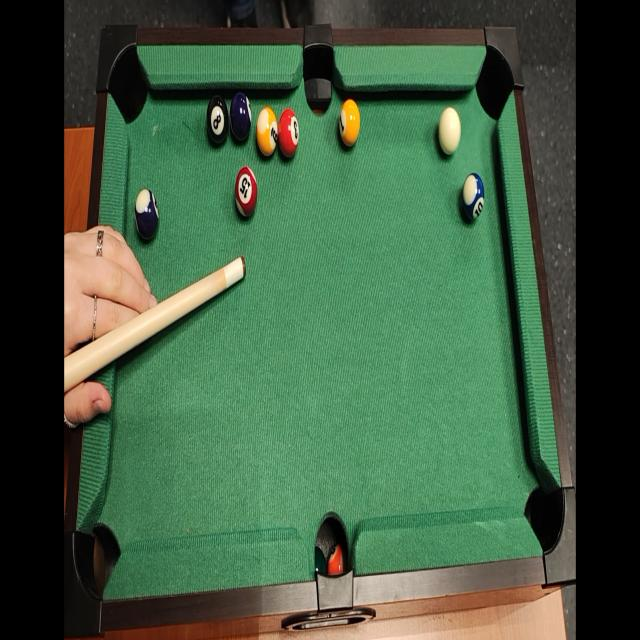cue ball: (436, 108, 463, 156)
other: (232, 160, 260, 222), (134, 182, 160, 246), (207, 92, 230, 154), (462, 169, 488, 222), (254, 105, 278, 161), (230, 87, 253, 144), (278, 106, 301, 159), (338, 96, 360, 147)
